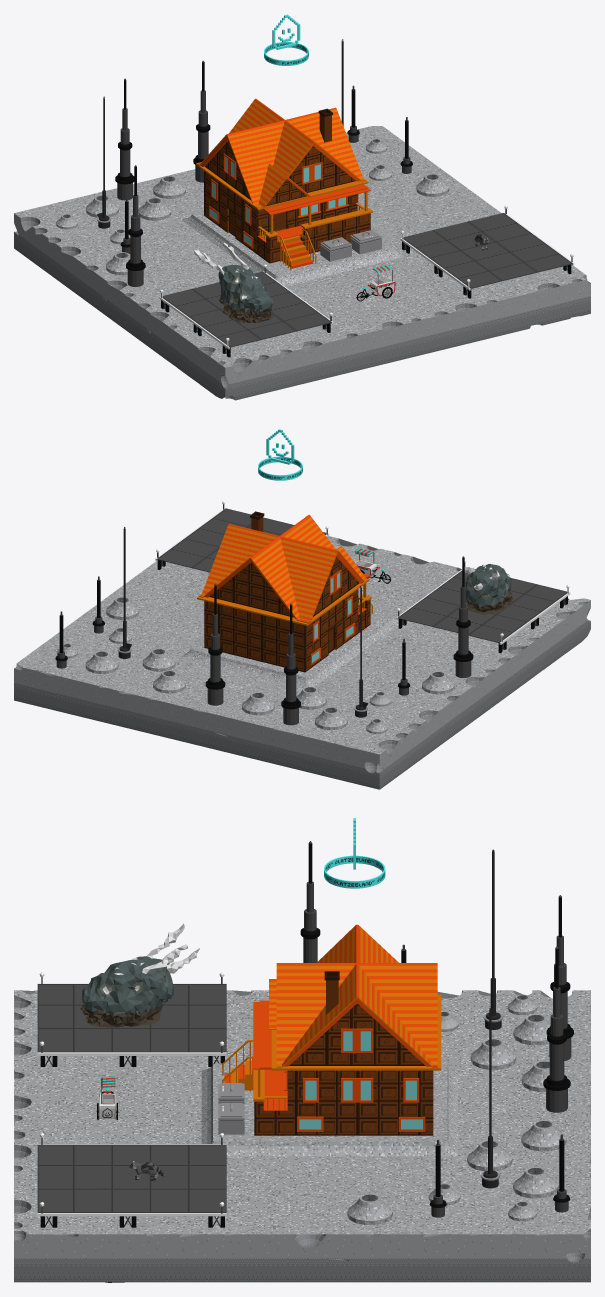
3 renders of one model, top to bottom at view 1: azimuth 30°, elevation 25°; view 2: azimuth 150°, elevation 25°; view 3: azimuth 270°, elevation 25°, orthographic. The views are drawn at different scales.
Visible parts, largest first — view 1: Cube.027, Cube, Cube.026, Cube.025, Cube.028, OBJRANDOM_METEORITE, Cylinder.021, Cylinder.020, Cylinder.017, TYPE_PREMIUM, VEHICLES_SNOWBAL_BIKE, Cube.029 (+4 smaller); view 2: Cube.027, Cube, Cube.025, Cube.028, Cube.026, OBJRANDOM_METEORITE, Cylinder.017, Cylinder.021, Cylinder.020, TYPE_PREMIUM, Cylinder.030, Cylinder.029 (+8 smaller); view 3: Cube.027, Cube, Cube.026, Cube.025, Cube.028, OBJRANDOM_METEORITE, Cylinder.017, Cylinder.020, Cylinder.021, TYPE_PREMIUM, Cylinder.031, Cylinder.033 (+11 smaller).
Part boxes in pixels (x1,y1,x2,y2): Cube.027: (14, 126, 590, 400); Cube: (196, 98, 372, 269); Cube.026: (400, 205, 574, 298); Cube.025: (159, 264, 333, 357); Cube.028: (182, 211, 403, 286); OBJRANDOM_METEORITE: (194, 242, 273, 323); Cylinder.021: (126, 165, 145, 286); Cylinder.020: (115, 78, 134, 200); Cylinder.017: (193, 60, 210, 182); TYPE_PREMIUM: (264, 14, 308, 65); VEHICLES_SNOWBAL_BIKE: (356, 265, 395, 301); Cube.029: (320, 237, 351, 261); Cube.027: (14, 536, 590, 789); Cube: (197, 511, 372, 672); Cube.025: (396, 560, 570, 653); Cube.028: (181, 610, 398, 688); Cube.026: (155, 501, 329, 572); OBJRANDOM_METEORITE: (464, 563, 513, 614); Cylinder.017: (205, 583, 225, 705); Cylinder.021: (453, 556, 473, 677); Cylinder.020: (281, 603, 300, 725); TYPE_PREMIUM: (258, 429, 302, 480); Cylinder.030: (142, 648, 175, 671); Cylinder.029: (153, 670, 185, 693); Cube.027: (14, 990, 590, 1282); Cube: (222, 924, 441, 1135); Cube.026: (37, 1133, 226, 1227); Cube.025: (37, 972, 226, 1066); Cube.028: (201, 1063, 457, 1156); OBJRANDOM_METEORITE: (80, 923, 199, 1027); Cylinder.017: (543, 946, 570, 1112); Cylinder.020: (546, 895, 573, 1060); Cylinder.021: (300, 841, 320, 962); TYPE_PREMIUM: (324, 818, 385, 888); Cylinder.031: (513, 1167, 558, 1198); Cylinder.033: (347, 1193, 392, 1224).
Bounding box in the file's own units: 4000 × 2676 × 4000.
Materials: 33 (6 with a texture image).
